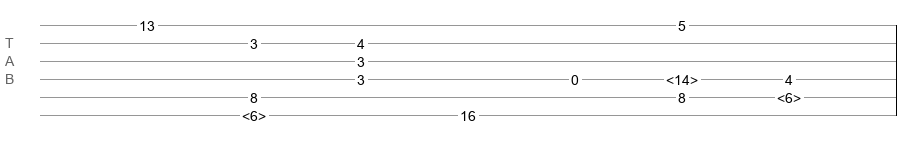0: (571, 72, 579, 82)
13: (139, 18, 155, 28)
16: (460, 108, 476, 118)
3: (250, 36, 258, 46), (357, 54, 365, 64), (357, 72, 365, 82)
4: (357, 36, 365, 46), (785, 72, 793, 82)
5: (678, 18, 686, 28)
8: (250, 90, 258, 100), (678, 90, 686, 100)
harmonic: (666, 72, 698, 82), (242, 108, 266, 118), (777, 90, 801, 100)
